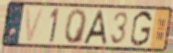1: (48, 7, 60, 45)
3: (110, 11, 129, 46)
A: (82, 9, 108, 47)
G: (129, 9, 153, 48)
Q: (64, 8, 88, 46)
V: (24, 7, 46, 44)
